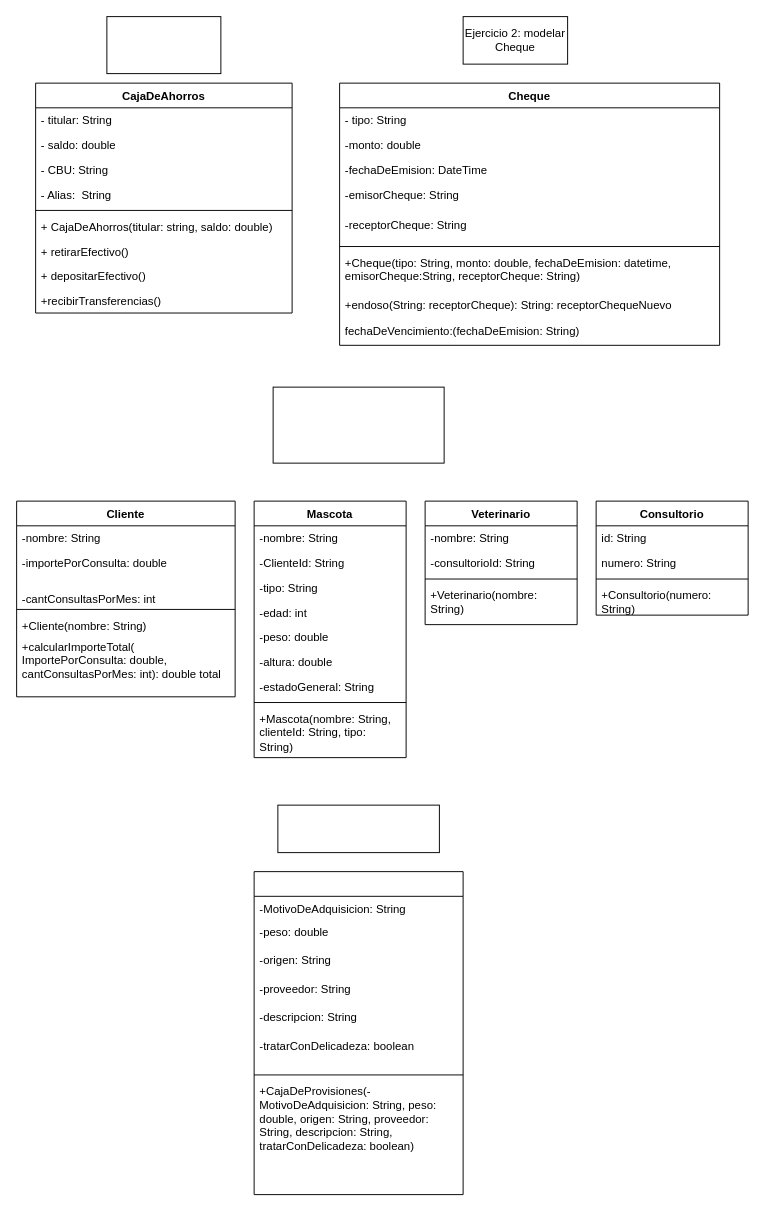
This 765x1214 diagram has some shape labels left out. The shapes that lost their labels are listed below. From the top down, each one's box as (x1, y1, x2, y2) in pixels, then its label:
(106, 16, 221, 74): Ejercicio 1: modelar caja de ahorros
(272, 386, 444, 463): Ejercicio 3: modelar todas las clases presentes en el enunciado
(277, 804, 439, 853): Ejercicio 4: modelar caja de provisiones
(253, 871, 463, 1195): CajaDeProvisones
